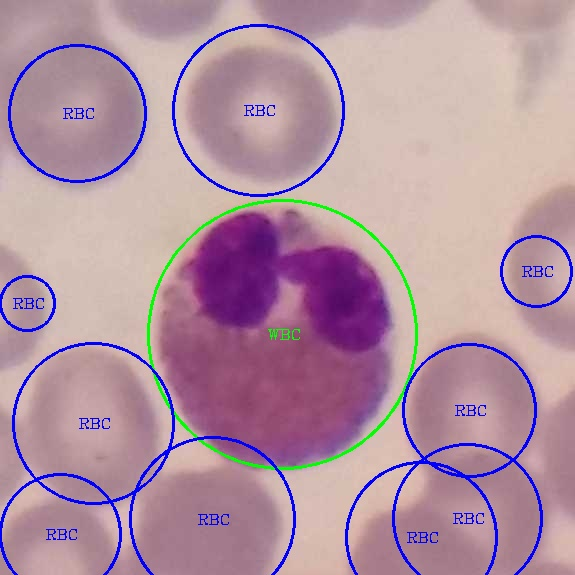RBC: (1, 11, 156, 203), (180, 44, 347, 196), (23, 343, 164, 510), (405, 330, 546, 493), (112, 463, 287, 573), (413, 448, 556, 572), (0, 490, 153, 573)
WBC: (157, 199, 402, 471)
